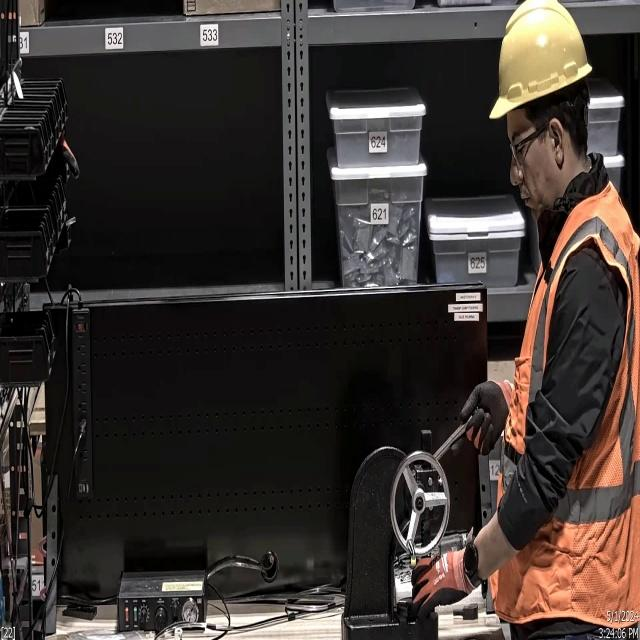construction-gloves: (408, 544, 470, 624), (460, 377, 512, 462)
